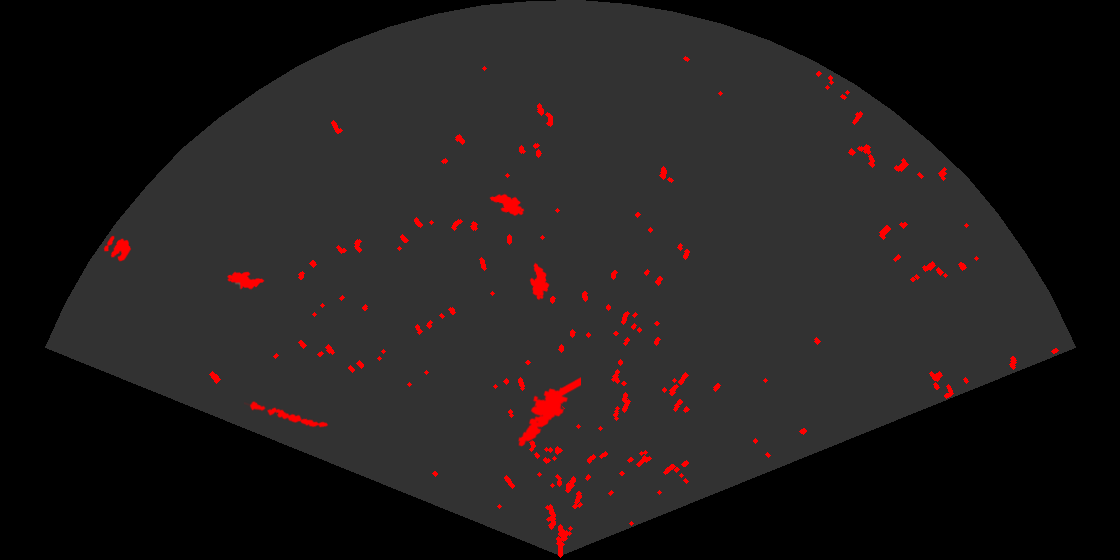AUV: (488, 192, 526, 218), (528, 261, 551, 302), (225, 270, 266, 291)
ball: (102, 234, 133, 263)
chain: (244, 400, 330, 429)
frogman: (516, 376, 581, 448)
